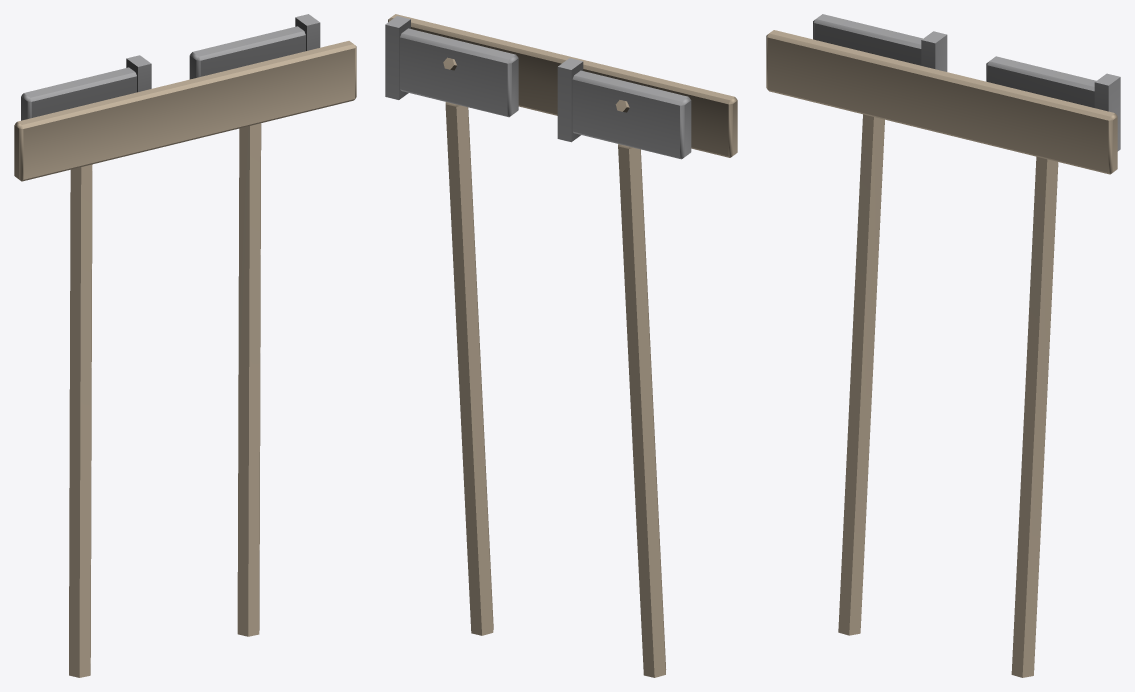
File: axe_pegs.glb
3 renders of one model, left to right at view 1: azimuth 30°, elevation 25°; view 2: azimuth 150°, elevation 25°; view 3: azimuth 330°, elevation 25°, orthographic. The views are drawn at different scales.
Parts seen in each view (by area): view 1: static; view 2: static; view 3: static.
Boxes of the visible parts, bbox=[...] form: static: bbox=[14, 14, 356, 677]; static: bbox=[385, 14, 737, 677]; static: bbox=[766, 14, 1120, 677].
Bounding box in the file's own units: 0.5 × 0.8308 × 0.0831.
